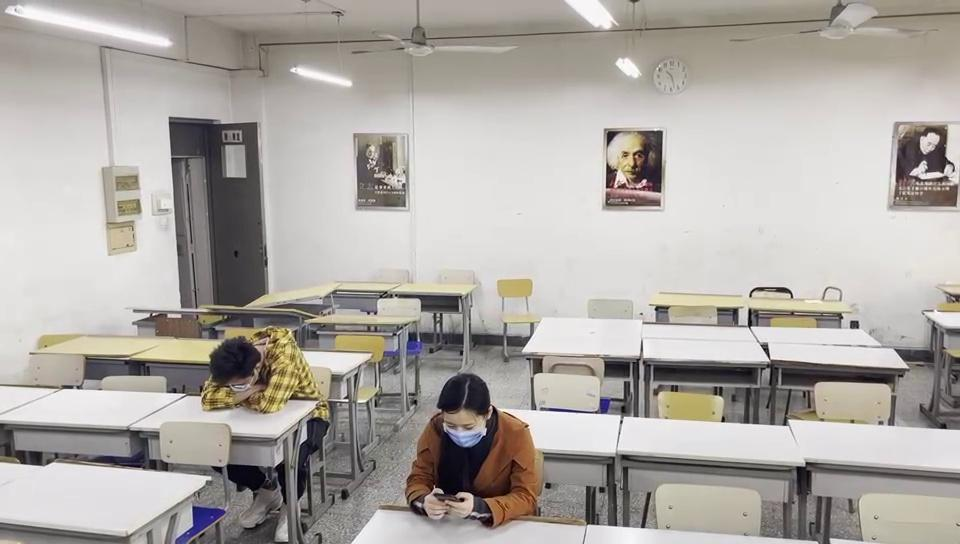phone: (404, 372, 536, 522)
sleep: (201, 326, 317, 410)
